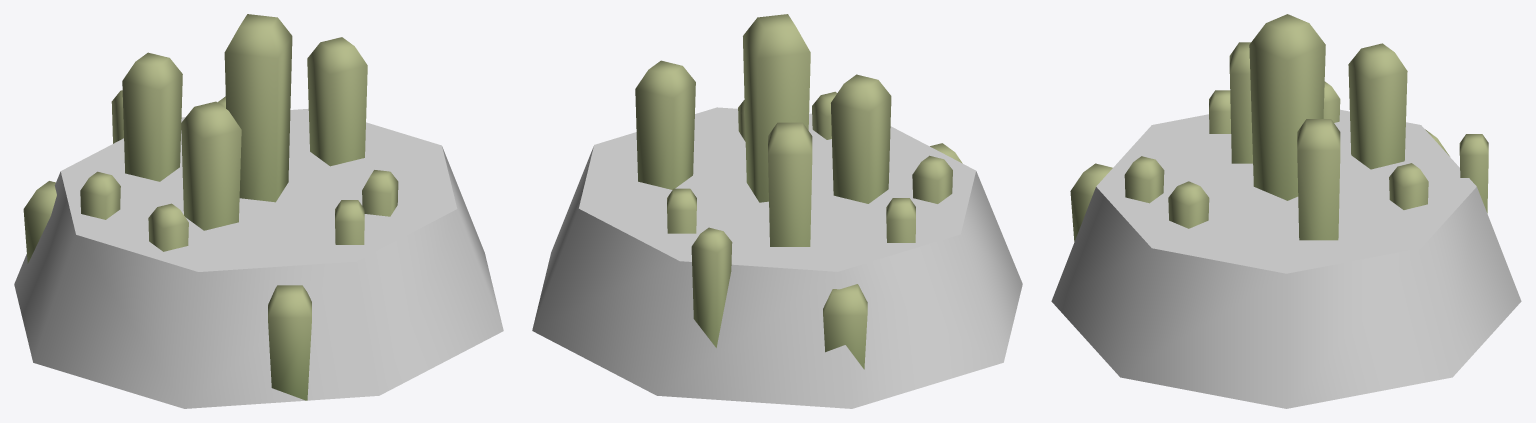
File: garden-grass-straight.glb
3 renders of one model, left to right at view 1: azimuth 30°, elevation 25°; view 2: azimuth 150°, elevation 25°; view 3: azimuth 270°, elevation 25°, orthographic. The views are drawn at different scales.
Parts seen in each view (by area): view 1: garden-grass-straight; view 2: garden-grass-straight; view 3: garden-grass-straight.
Part boxes in pixels (<box>): garden-grass-straight: <box>14,14,503,408</box>; garden-grass-straight: <box>532,14,1022,408</box>; garden-grass-straight: <box>1051,14,1521,408</box>.
Size of the model in its own units: 0.3766 by 0.2272 by 0.3479.
